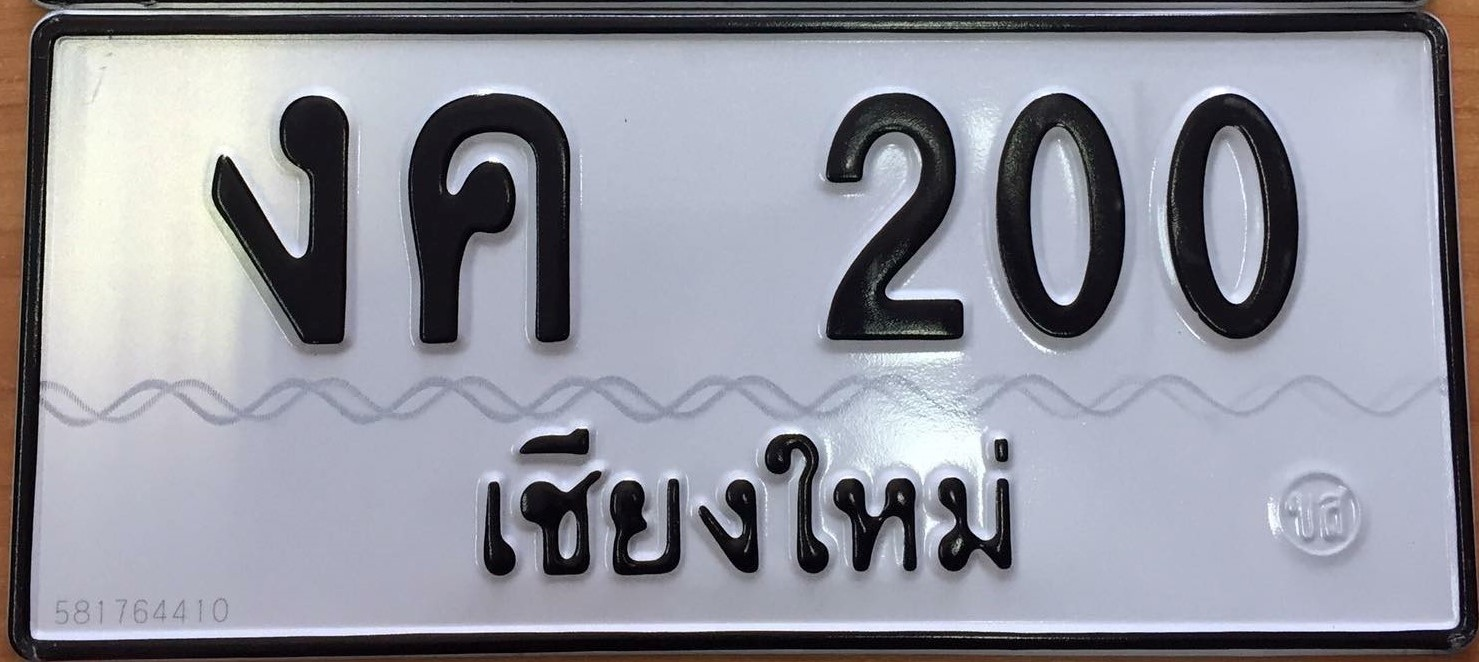txt03: (400, 86, 579, 351)
txt05: (209, 91, 357, 353)
